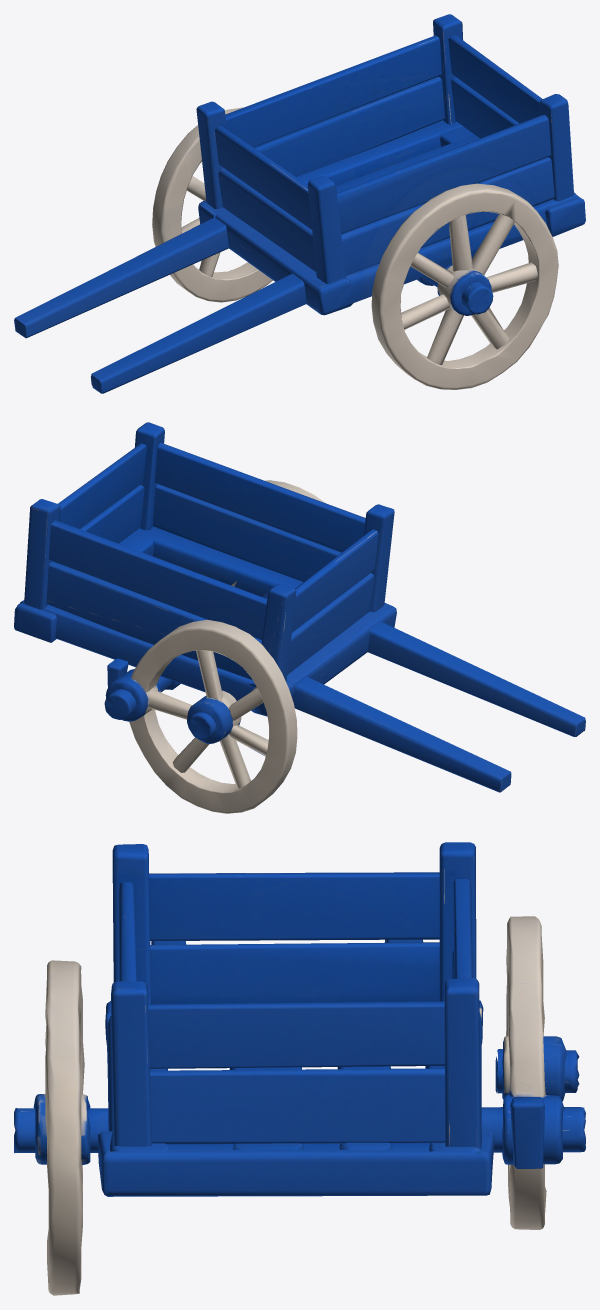
The model's file is ornament_accent.glb.
3 renders of one model, top to bottom at view 1: azimuth 30°, elevation 25°; view 2: azimuth 150°, elevation 25°; view 3: azimuth 270°, elevation 25°, orthographic. The views are drawn at different scales.
Size of the model in its own units: 1 by 0.502 by 0.6797.
1 material, 1 textured.
